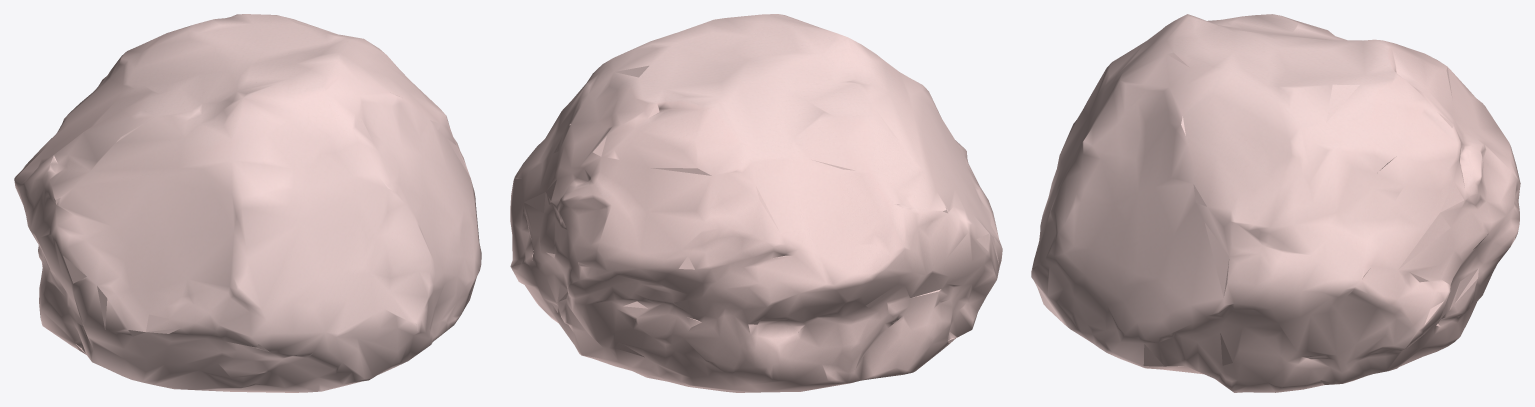
Rendered from RoseQuartz.fbx.
3 views of the same model, side by side, from view 1: azimuth 30°, elevation 25°; view 2: azimuth 150°, elevation 25°; view 3: azimuth 270°, elevation 25° (orthographic). The views are drawn at different scales.
Visible parts, largest first — view 1: Mesh_0; view 2: Mesh_0; view 3: Mesh_0.
Boxes of the visible parts, x1,y1,x2,y2 form: Mesh_0: (14,14,481,392); Mesh_0: (510,14,1002,392); Mesh_0: (1031,14,1520,392).
Size of the model in its own units: 190 by 130 by 188.
Materials: 1 (1 with a texture image).
